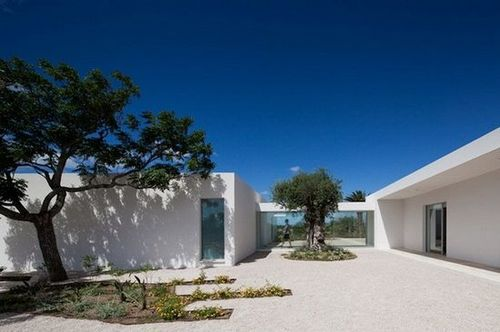buildings: (23, 164, 258, 272), (159, 169, 265, 275)
sky_cloud: (38, 40, 491, 168)
